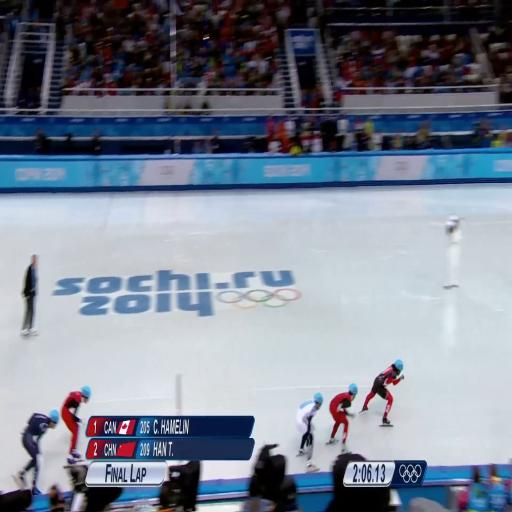Skater: (14, 410, 59, 495), (362, 359, 403, 426), (62, 386, 90, 464), (297, 393, 323, 472), (328, 384, 358, 452)
